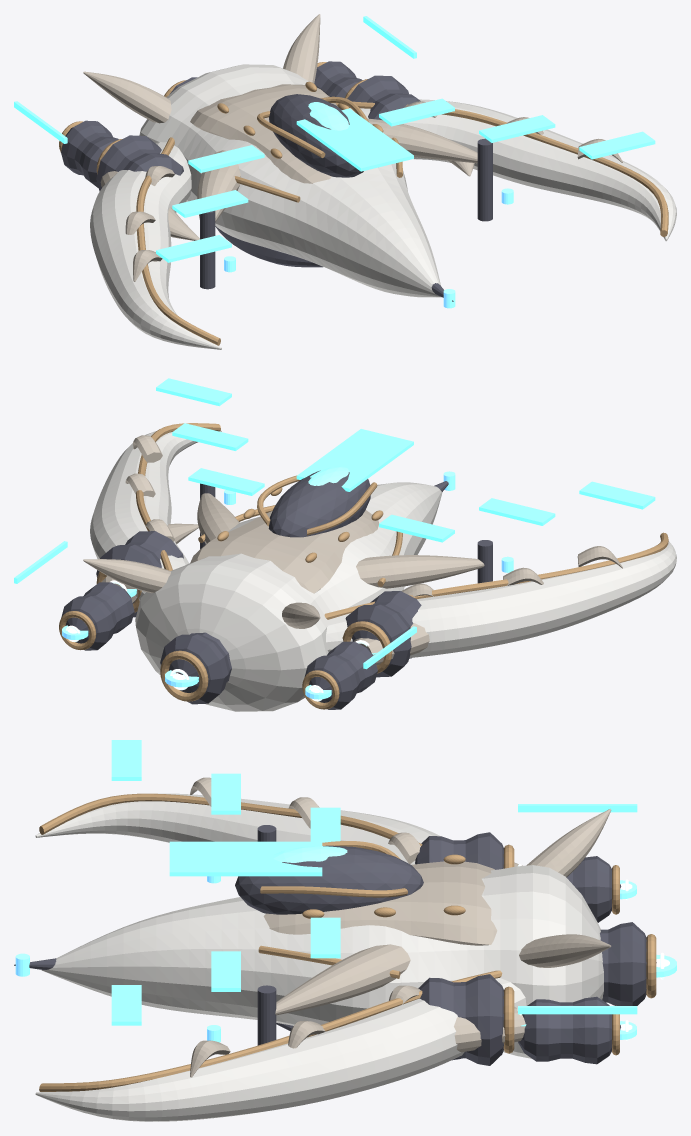
The model's file is SL_LEVIATHAN_HQ.glb.
3 views of the same model, one above another, from view 1: azimuth 30°, elevation 25°; view 2: azimuth 150°, elevation 25°; view 3: azimuth 270°, elevation 25° (orthographic). The views are drawn at different scales.
Parts seen in each view (by area): view 1: 00_FUSELAGEM_MONOCOQUE, V59 trim baked, 10_GARRA_E, 10_GARRA_D, 01_PLACA_DORSAL, 03_JANELA_DA_CABINE, 31_REATOR_DE_GUERRA_E_cowl, 30_SUPORTE_INTERNO_D, 20_PROPULSOR_LATERAL_E_cowl, 62_ESTABILIZADOR_E, 11_FRISO_CONTORNO_D, 31_REATOR_DE_GUERRA_D_cowl (+10 smaller); view 2: 00_FUSELAGEM_MONOCOQUE, 10_GARRA_E, V59 trim baked, 10_GARRA_D, 01_PLACA_DORSAL, 03_JANELA_DA_CABINE, 30_SUPORTE_INTERNO_E, 31_REATOR_DE_GUERRA_E_cowl, 20_PROPULSOR_LATERAL_D_cowl, 20_PROPULSOR_LATERAL_E_cowl, 06_TURBINA_PRINCIPAL_cowl, 11_FRISO_CONTORNO_E (+16 smaller); view 3: 00_FUSELAGEM_MONOCOQUE, 10_GARRA_D, V59 trim baked, 10_GARRA_E, 01_PLACA_DORSAL, 03_JANELA_DA_CABINE, 20_PROPULSOR_LATERAL_D_cowl, 30_SUPORTE_INTERNO_D, 31_REATOR_DE_GUERRA_D_cowl, 06_TURBINA_PRINCIPAL_cowl, 11_FRISO_CONTORNO_D, 11_FRISO_CONTORNO_E (+14 smaller).
Boxes of the visible parts, bbox=[...] form: 00_FUSELAGEM_MONOCOQUE: bbox=[139, 64, 441, 297]; V59 trim baked: bbox=[14, 16, 655, 262]; 10_GARRA_E: bbox=[90, 142, 221, 349]; 10_GARRA_D: bbox=[349, 99, 676, 241]; 01_PLACA_DORSAL: bbox=[190, 84, 337, 183]; 03_JANELA_DA_CABINE: bbox=[269, 94, 363, 177]; 31_REATOR_DE_GUERRA_E_cowl: bbox=[96, 135, 183, 191]; 30_SUPORTE_INTERNO_D: bbox=[367, 118, 477, 163]; 20_PROPULSOR_LATERAL_E_cowl: bbox=[61, 120, 118, 187]; 62_ESTABILIZADOR_E: bbox=[83, 71, 171, 123]; 11_FRISO_CONTORNO_D: bbox=[335, 101, 668, 236]; 31_REATOR_DE_GUERRA_D_cowl: bbox=[347, 75, 420, 120]; 00_FUSELAGEM_MONOCOQUE: bbox=[135, 482, 442, 711]; 10_GARRA_E: bbox=[326, 541, 676, 657]; V59 trim baked: bbox=[14, 378, 655, 669]; 10_GARRA_D: bbox=[90, 430, 221, 601]; 01_PLACA_DORSAL: bbox=[190, 510, 378, 593]; 03_JANELA_DA_CABINE: bbox=[268, 470, 370, 537]; 30_SUPORTE_INTERNO_E: bbox=[356, 555, 484, 588]; 31_REATOR_DE_GUERRA_E_cowl: bbox=[345, 591, 421, 677]; 20_PROPULSOR_LATERAL_D_cowl: bbox=[61, 582, 134, 650]; 20_PROPULSOR_LATERAL_E_cowl: bbox=[304, 641, 377, 709]; 06_TURBINA_PRINCIPAL_cowl: bbox=[160, 632, 231, 704]; 11_FRISO_CONTORNO_E: bbox=[324, 532, 668, 619]; 00_FUSELAGEM_MONOCOQUE: bbox=[41, 865, 603, 1058]; 10_GARRA_D: bbox=[35, 978, 526, 1121]; V59 trim baked: bbox=[111, 740, 637, 1025]; 10_GARRA_E: bbox=[35, 793, 440, 864]; 01_PLACA_DORSAL: bbox=[263, 861, 497, 945]; 03_JANELA_DA_CABINE: bbox=[235, 845, 423, 914]; 20_PROPULSOR_LATERAL_D_cowl: bbox=[518, 996, 620, 1064]; 30_SUPORTE_INTERNO_D: bbox=[275, 944, 410, 1015]; 31_REATOR_DE_GUERRA_D_cowl: bbox=[418, 974, 503, 1065]; 06_TURBINA_PRINCIPAL_cowl: bbox=[600, 922, 656, 1005]; 11_FRISO_CONTORNO_D: bbox=[39, 970, 502, 1091]; 11_FRISO_CONTORNO_E: bbox=[39, 793, 422, 845].
Bounding box in the file's own units: 6.56 × 2 × 6.
